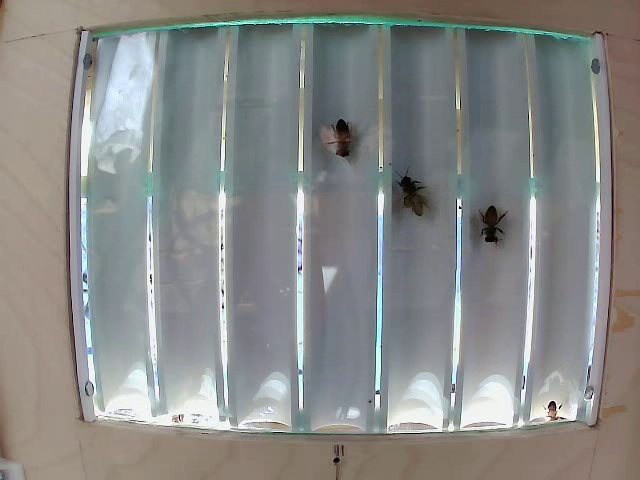bee: (467, 202, 515, 247), (389, 176, 437, 221), (324, 121, 357, 164)
